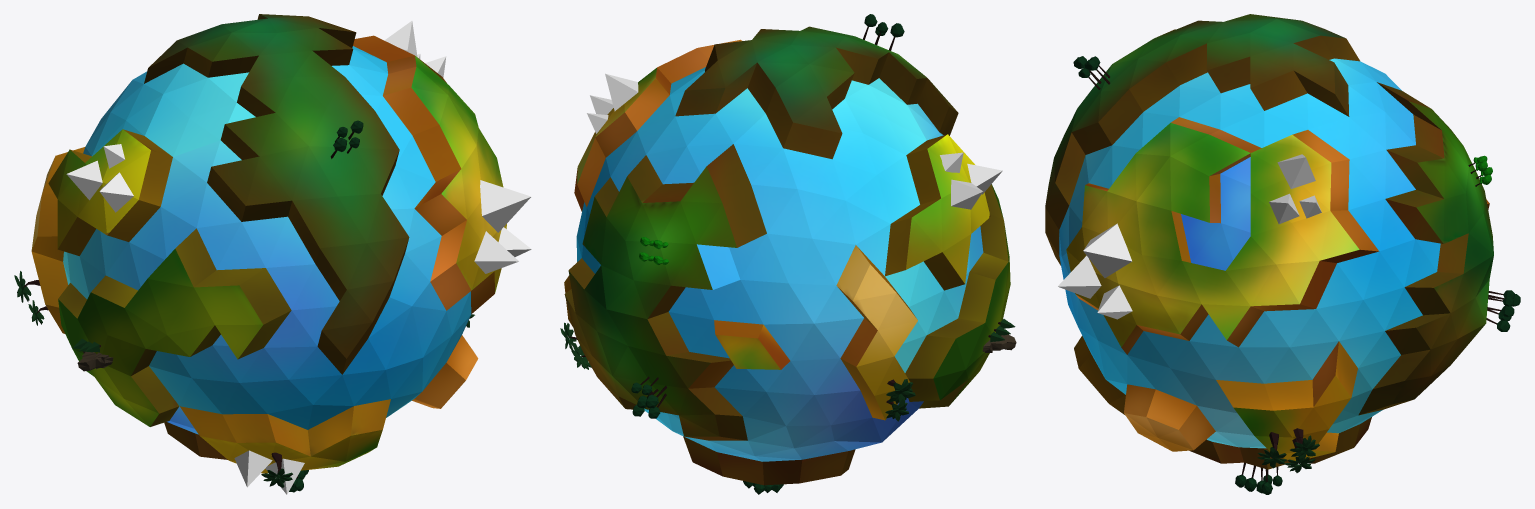
Rendered from world_3_piramidi.fbx.
3 views of the same model, side by side, from view 1: azimuth 30°, elevation 25°; view 2: azimuth 150°, elevation 25°; view 3: azimuth 270°, elevation 25° (orthographic). The views are drawn at different scales.
Visible parts, largest first — view 1: GeoSphere001, Pyramid001, Pyramid002, Pyramid006, Pyramid008, Pyramid004, Pyramid010; view 2: GeoSphere001, Pyramid010, Pyramid006, Pyramid008, alberelli_1; view 3: GeoSphere001, Pyramid001, alberelli_1, Pyramid002, Pyramid010, Pyramid003, Pyramid013.
Boxes of the visible parts, bbox=[...] form: GeoSphere001: bbox=[31, 14, 506, 473]; Pyramid001: bbox=[480, 180, 530, 232]; Pyramid002: bbox=[474, 231, 518, 273]; Pyramid006: bbox=[66, 160, 102, 200]; Pyramid008: bbox=[99, 172, 133, 212]; Pyramid004: bbox=[234, 450, 272, 487]; Pyramid010: bbox=[384, 21, 417, 57]; GeoSphere001: bbox=[564, 26, 1010, 485]; Pyramid010: bbox=[605, 73, 638, 111]; Pyramid006: bbox=[951, 179, 982, 209]; Pyramid008: bbox=[967, 163, 1002, 194]; alberelli_1: bbox=[560, 322, 591, 369]; GeoSphere001: bbox=[1045, 14, 1493, 469]; Pyramid001: bbox=[1083, 223, 1132, 277]; alberelli_1: bbox=[1257, 428, 1319, 472]; Pyramid002: bbox=[1058, 255, 1101, 298]; Pyramid010: bbox=[1277, 154, 1315, 188]; Pyramid003: bbox=[1097, 285, 1132, 319]; Pyramid013: bbox=[1269, 193, 1299, 224].
Size of the model in its own units: 368 by 382 by 365.
Materials: 8 (1 with a texture image).
